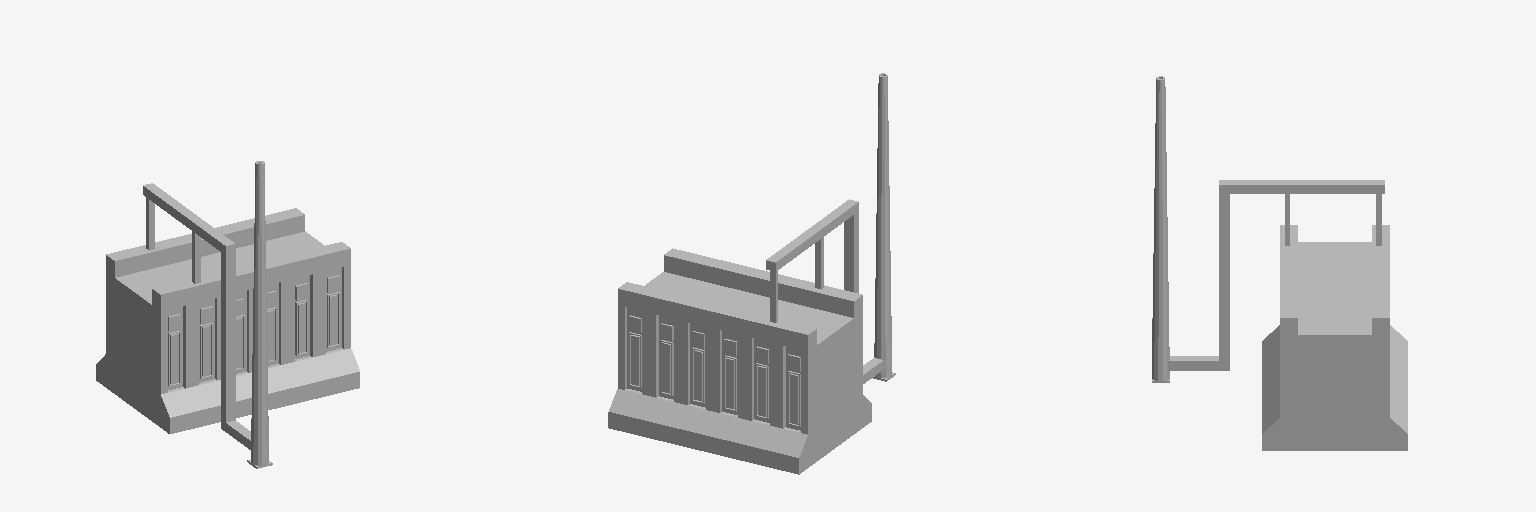
The model's file is coke_oven_battery.obj.
The picture shows the model from 3 angles: view 1: azimuth 30°, elevation 25°; view 2: azimuth 150°, elevation 25°; view 3: azimuth 270°, elevation 25°; orthographic projection.
Parts seen in each view (by area): view 1: cube, tube; view 2: cube, tube; view 3: cube, tube.
Boxes of the visible parts, x1=… form: cube: x1=96, y1=183, x2=359, y2=468; tube: x1=251, y1=161, x2=268, y2=465; cube: x1=608, y1=199, x2=895, y2=474; tube: x1=874, y1=73, x2=891, y2=377; cube: x1=1152, y1=180, x2=1407, y2=450; tube: x1=1152, y1=76, x2=1169, y2=380.
Size of the model in its own units: 12 by 18.12 by 14.